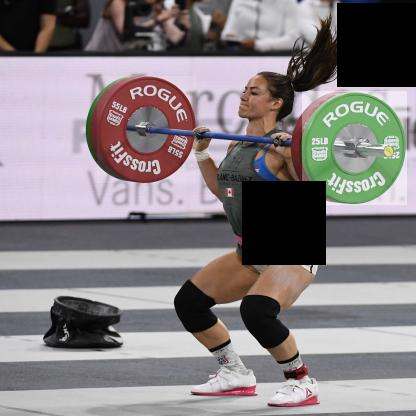barbell: (303, 92, 408, 206), (98, 77, 197, 184)
